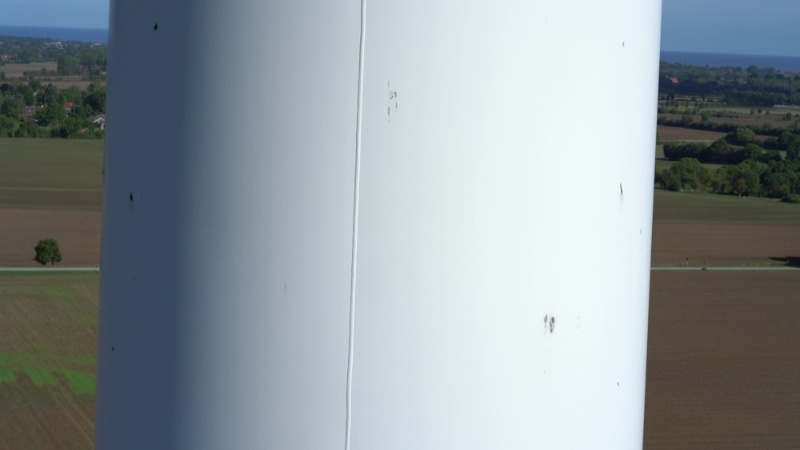weldseam: (341, 2, 371, 450)
